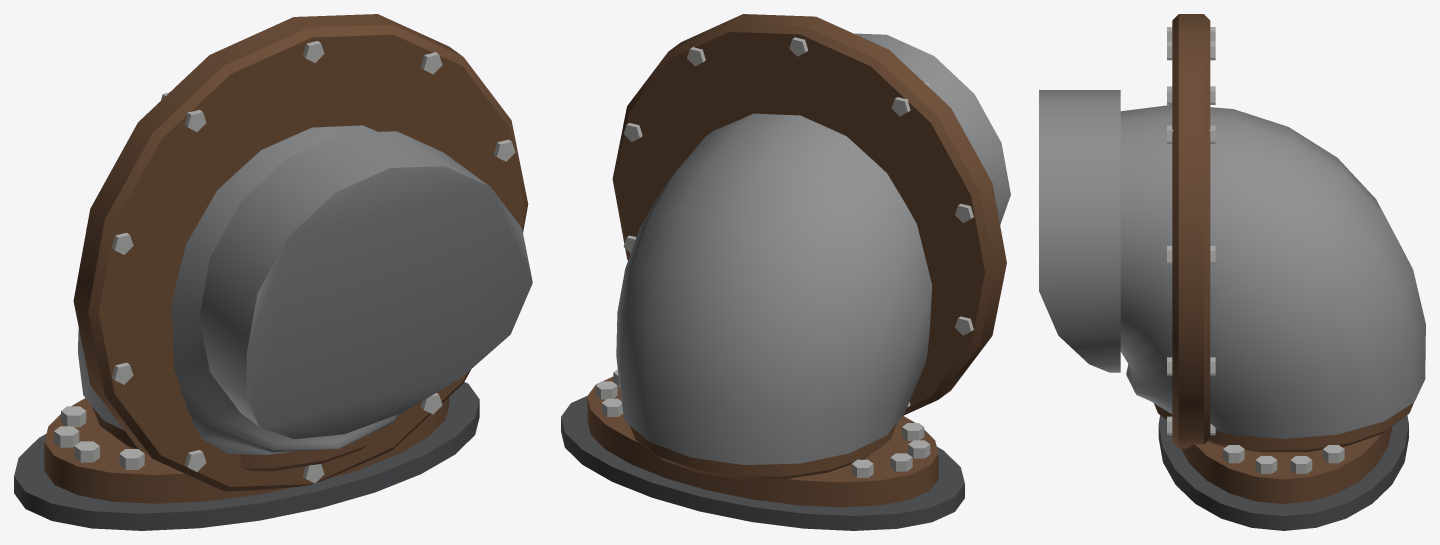
The model's file is pipe-to-ground-south.glb.
3 views of the same model, side by side, from view 1: azimuth 30°, elevation 25°; view 2: azimuth 150°, elevation 25°; view 3: azimuth 270°, elevation 25° (orthographic). The views are drawn at different scales.
Visible parts, largest first — view 1: body; view 2: body; view 3: body.
Boxes of the visible parts, x1,y1,x2,y2 form: body: [14, 14, 532, 530]; body: [561, 14, 1010, 530]; body: [1039, 14, 1425, 530].
Bounding box in the file's own units: 0.805 × 0.82 × 0.7113.
